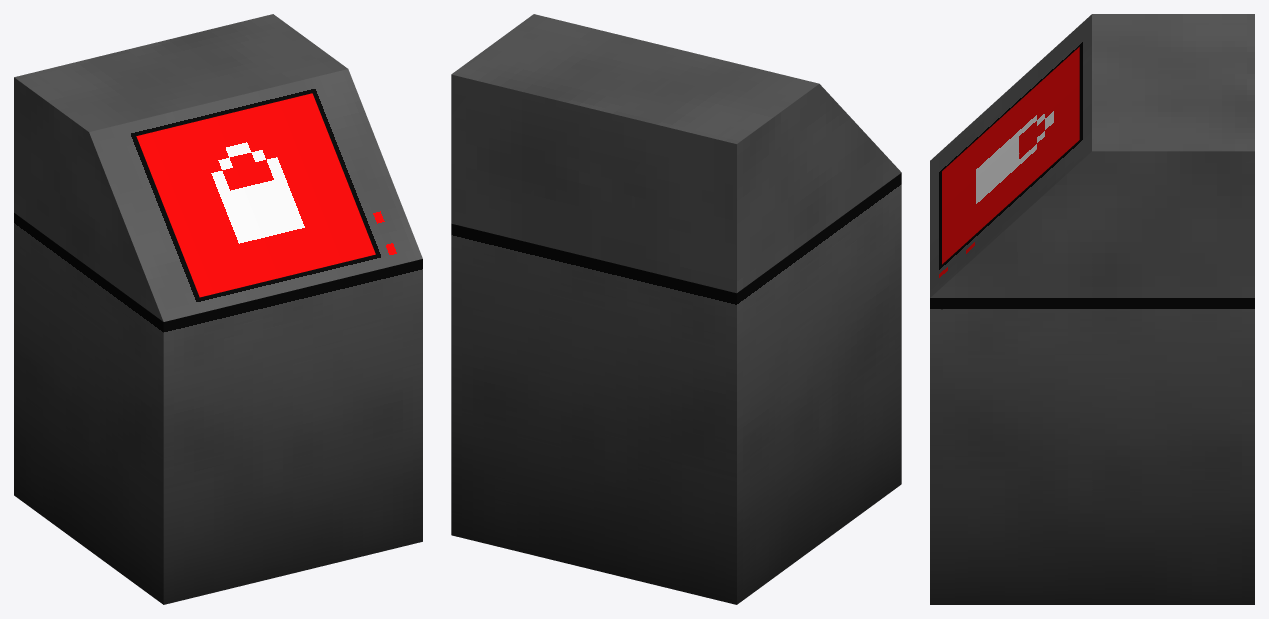
File: key_card_terminal.glb
3 views of the same model, side by side, from view 1: azimuth 30°, elevation 25°; view 2: azimuth 150°, elevation 25°; view 3: azimuth 270°, elevation 25° (orthographic). The views are drawn at different scales.
Parts seen in each view (by area): view 1: Cube; view 2: Cube; view 3: Cube.
Boxes of the visible parts, x1,y1,x2,y2 form: Cube: (14,14,422,604); Cube: (451,14,901,604); Cube: (930,14,1254,604).
Bounding box in the file's own units: 1 × 1.54 × 1.
2 materials, 2 textured.
